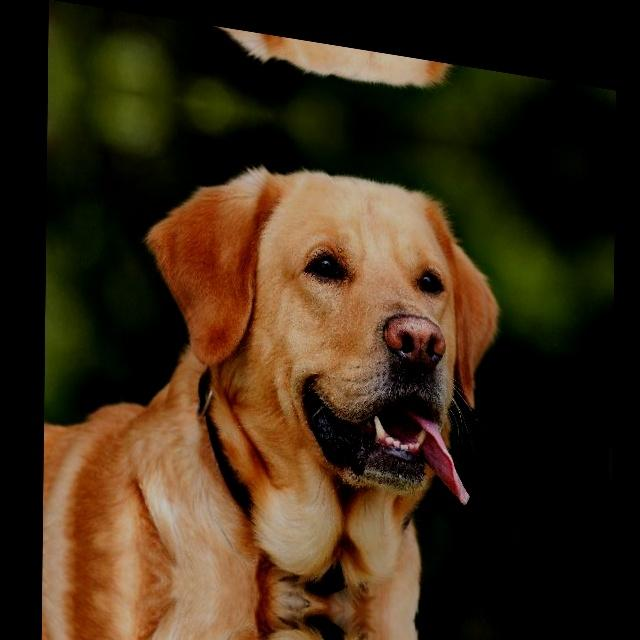dog: (143, 121, 496, 520), (148, 15, 496, 126)
